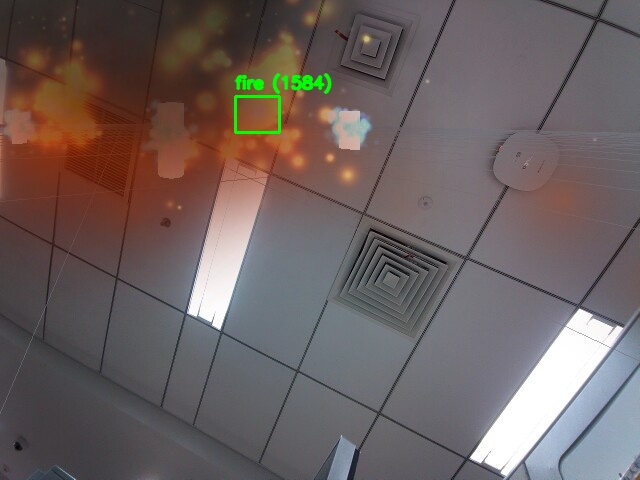fire: (235, 96, 279, 132)
